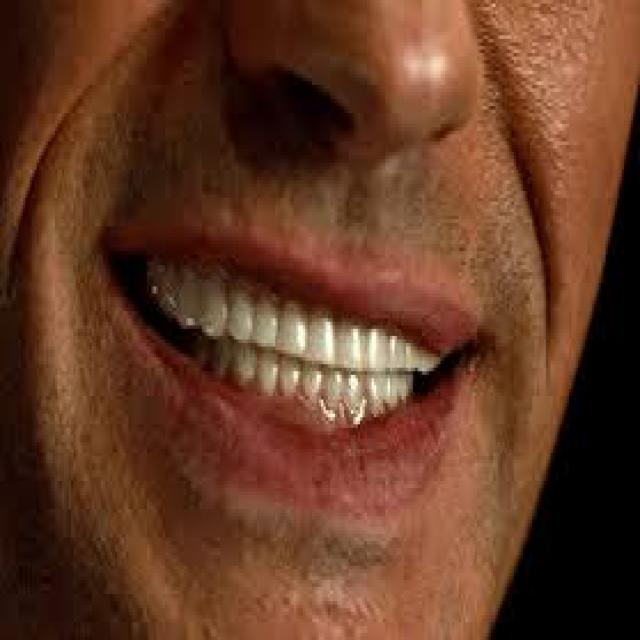tooth: (254, 290, 280, 361), (200, 276, 224, 343), (227, 294, 257, 346), (310, 315, 335, 371), (287, 301, 307, 364), (360, 326, 386, 372), (323, 364, 342, 424), (181, 276, 200, 332), (386, 329, 408, 375), (344, 382, 363, 431), (234, 346, 257, 386), (342, 322, 360, 368), (284, 371, 303, 414), (302, 371, 316, 407), (264, 360, 278, 392)
